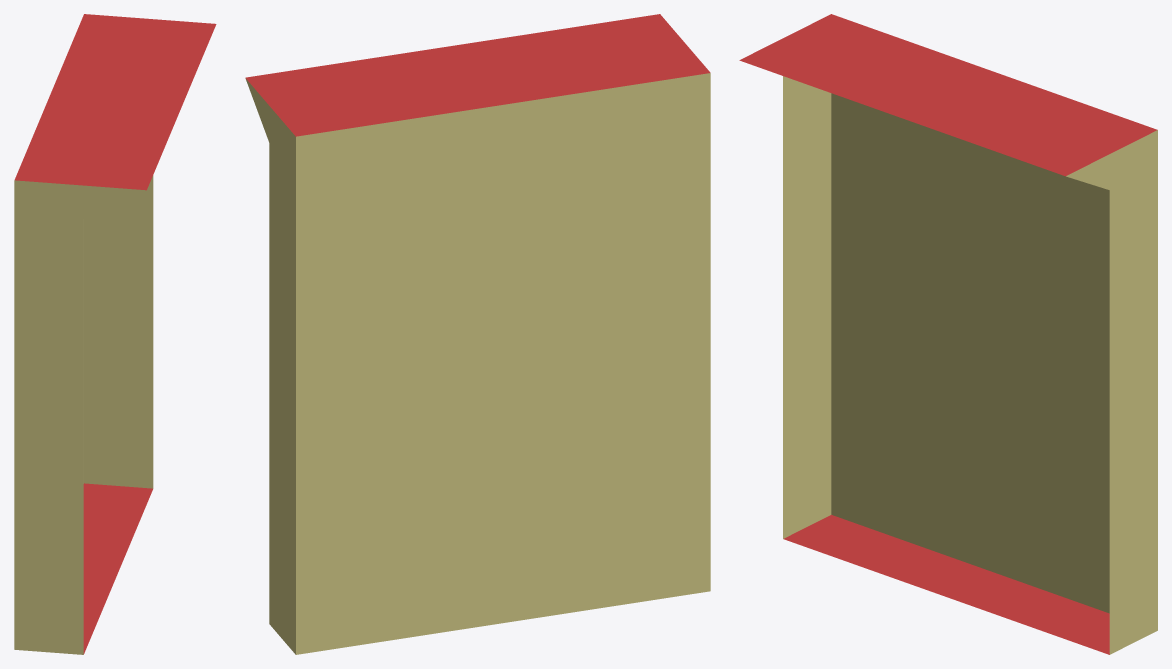
3 views of the same model, side by side, from view 1: azimuth 30°, elevation 25°; view 2: azimuth 150°, elevation 25°; view 3: azimuth 270°, elevation 25° (orthographic). The views are drawn at different scales.
Visible parts, largest first — view 1: group_4, group_3, group_5; view 2: group_4, group_3; view 3: group_4, group_3, group_5.
Part boxes in pixels (bbox=[...]): group_4: bbox=[14, 175, 153, 654]; group_3: bbox=[14, 14, 216, 190]; group_5: bbox=[83, 483, 152, 654]; group_4: bbox=[245, 73, 710, 654]; group_3: bbox=[245, 14, 710, 136]; group_4: bbox=[783, 76, 1157, 654]; group_3: bbox=[739, 14, 1157, 176]; group_5: bbox=[783, 515, 1109, 654].
Bounding box in the file's own units: 7.2 × 7.84 × 10.35.
